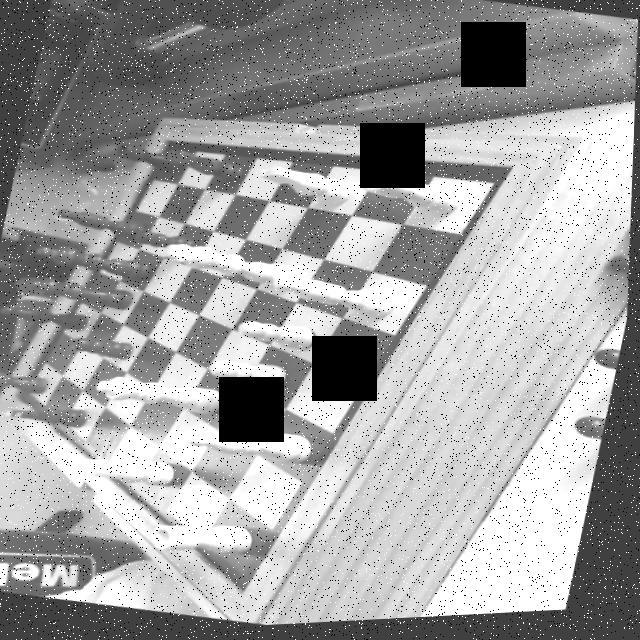chess-table-corners: (492, 160, 530, 192), (229, 577, 267, 607), (148, 128, 188, 156), (3, 385, 35, 407)
